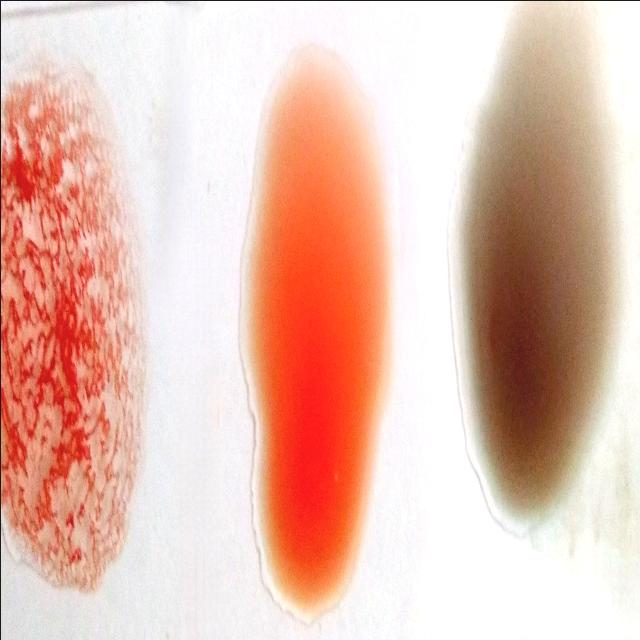D: (0, 53, 142, 599)
